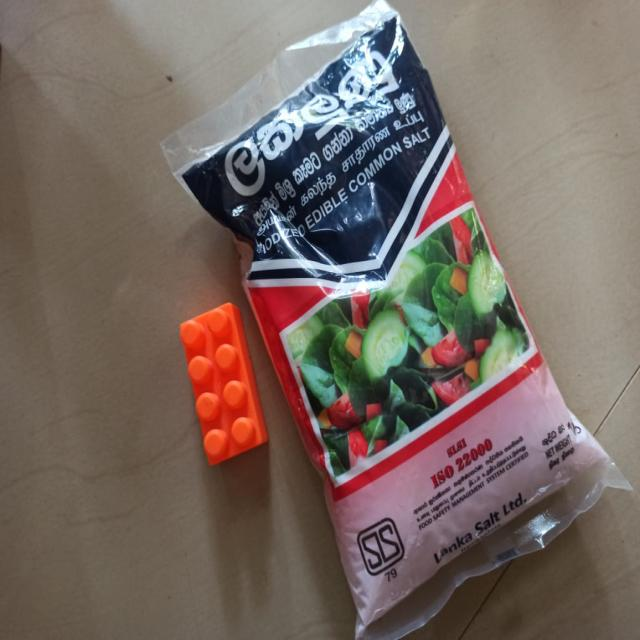Lak Lunu: (141, 3, 640, 640)
